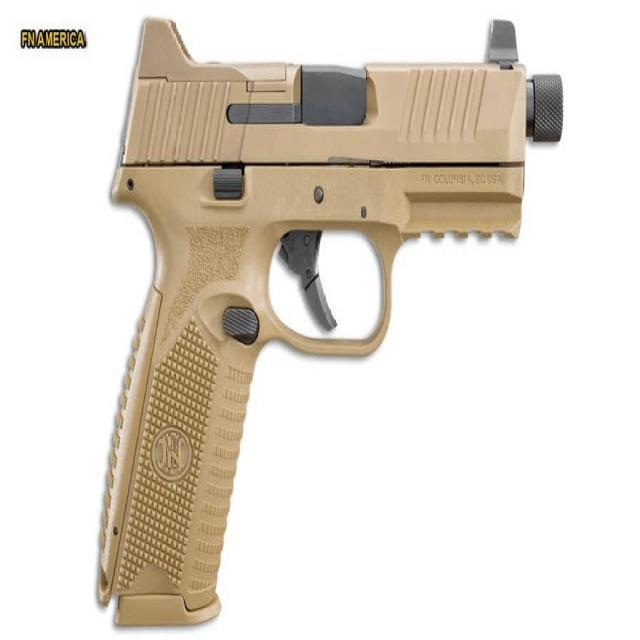pistol: (97, 13, 568, 623)
